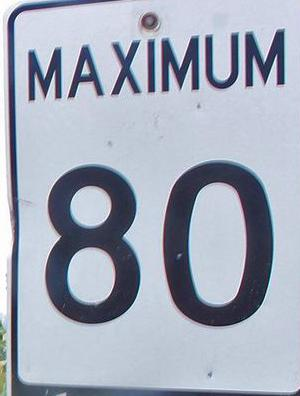Speed Limit -80-: (0, 1, 299, 395)
